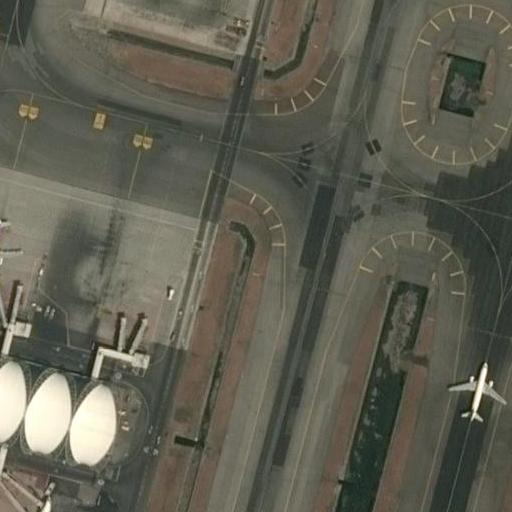Aircraft: (442, 356, 508, 432), (0, 214, 27, 281), (0, 495, 86, 512)
